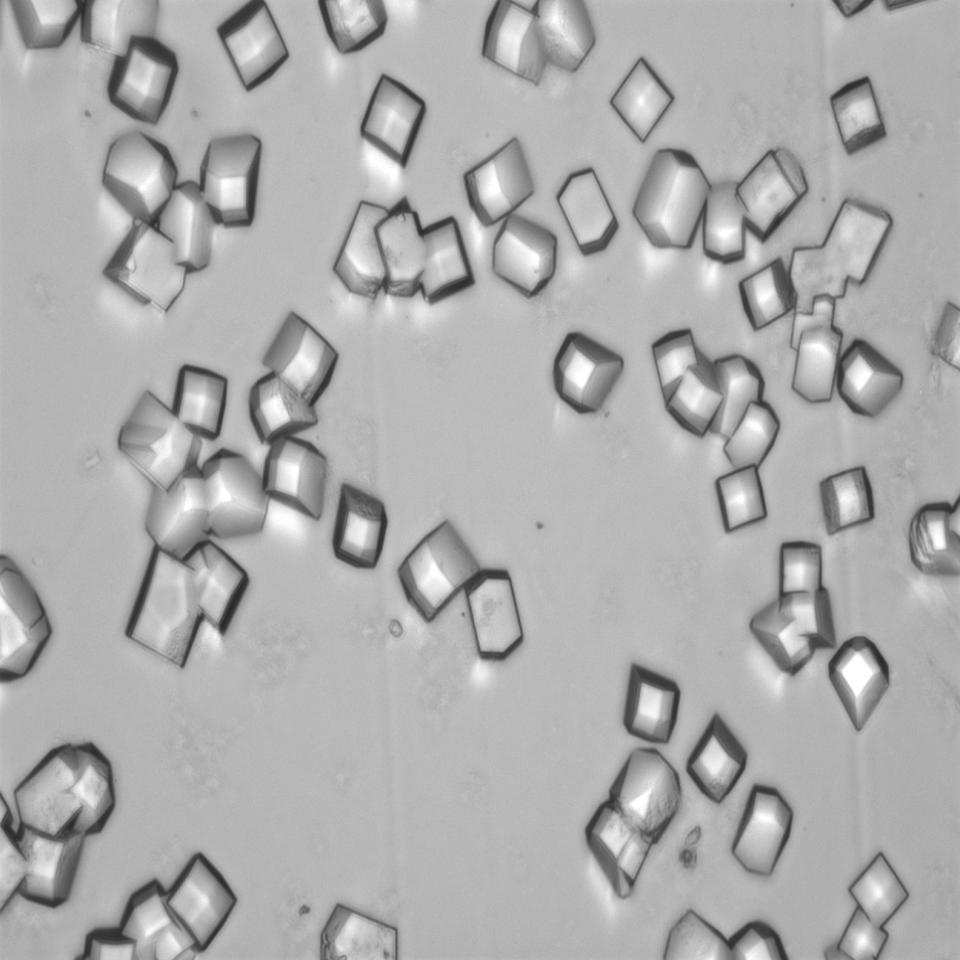crystal: (0, 533, 59, 698), (395, 515, 484, 624), (354, 61, 434, 165), (461, 555, 532, 668), (460, 132, 540, 228), (634, 146, 706, 251), (555, 154, 624, 260), (827, 624, 893, 734), (98, 130, 180, 216), (546, 328, 627, 415), (604, 50, 678, 145), (193, 134, 264, 230), (682, 704, 746, 807), (256, 310, 338, 389), (216, 0, 287, 90), (734, 776, 796, 878), (478, 0, 550, 87), (166, 857, 240, 941), (262, 426, 331, 516), (738, 147, 809, 232), (825, 70, 895, 156), (488, 212, 561, 294), (617, 654, 682, 745), (836, 335, 906, 419), (110, 38, 180, 119), (810, 460, 881, 538), (333, 476, 388, 576), (847, 848, 913, 928), (168, 364, 235, 438), (320, 0, 402, 59), (736, 257, 796, 331), (715, 462, 775, 536)
not_crystal: (139, 465, 247, 637), (17, 762, 113, 902), (341, 215, 464, 298), (599, 757, 675, 886), (657, 345, 757, 435), (753, 582, 829, 668)
